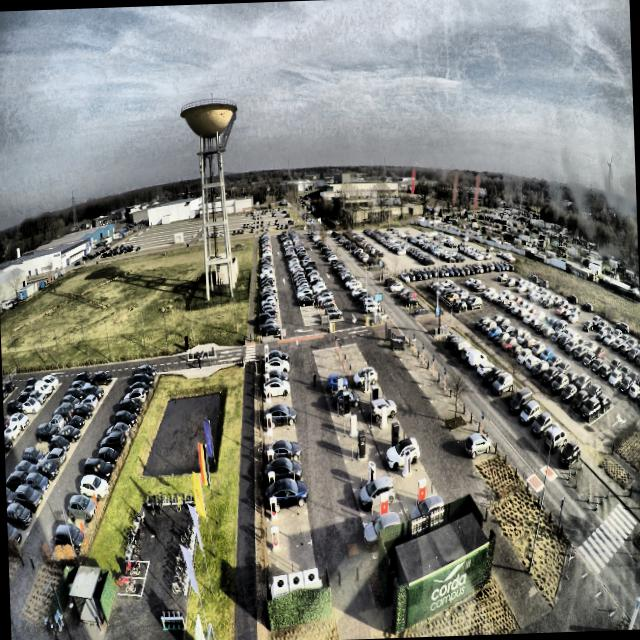cabinet: (273, 567, 319, 592)
car: (266, 477, 308, 515), (265, 457, 303, 484), (264, 403, 297, 428), (266, 439, 302, 461), (262, 376, 292, 399), (263, 368, 290, 387), (264, 356, 289, 374), (265, 349, 290, 366)
parking: (268, 542, 315, 579), (267, 511, 311, 550), (265, 484, 306, 519), (265, 464, 303, 493), (264, 445, 300, 471), (264, 427, 298, 451), (263, 412, 295, 432), (263, 398, 292, 416), (263, 386, 291, 402), (263, 376, 289, 389), (262, 365, 288, 378), (262, 355, 287, 368)
supercharger: (270, 526, 279, 549), (269, 497, 278, 519), (268, 471, 275, 491), (267, 449, 274, 465), (266, 431, 273, 446), (266, 414, 272, 431), (265, 399, 271, 414), (265, 386, 270, 399), (264, 353, 269, 365), (265, 374, 270, 385), (264, 363, 269, 374), (264, 344, 268, 354)
